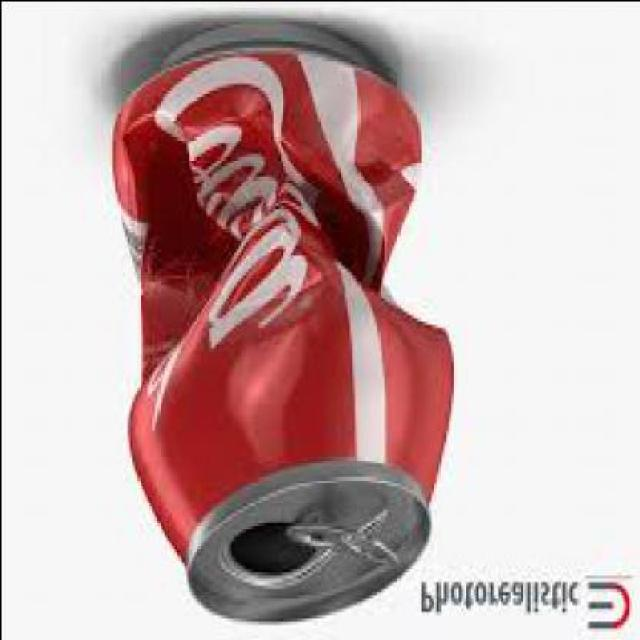metal: (106, 28, 451, 628)
